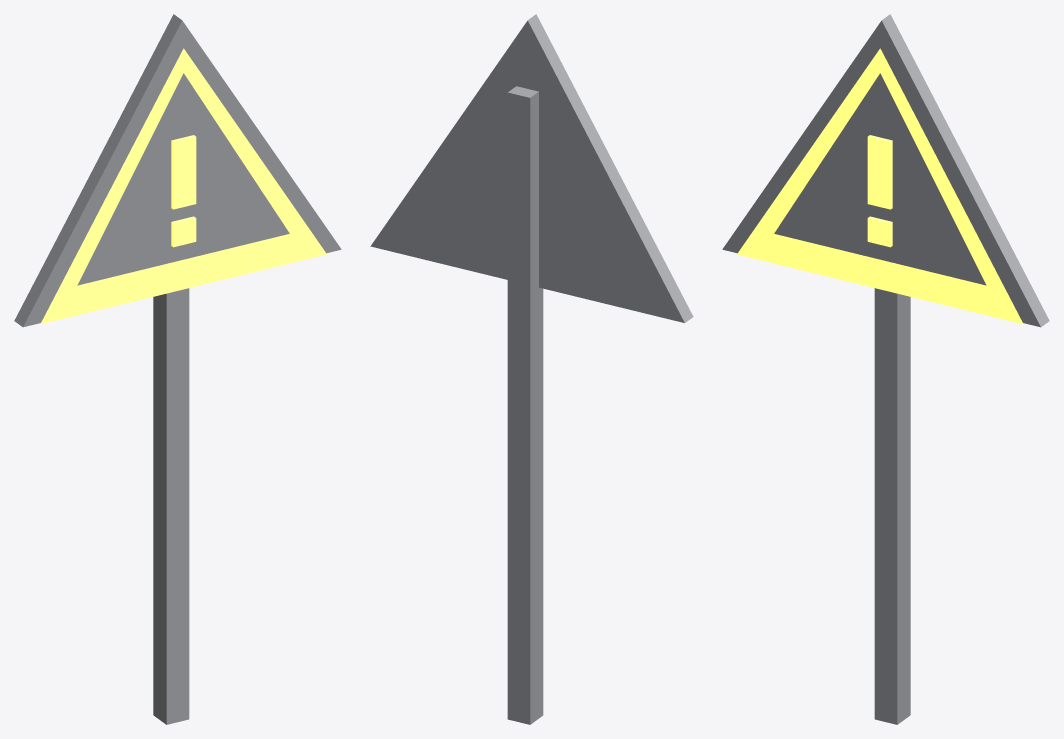
File: Tabela_KayaDusebilir.fbx
3 views of the same model, side by side, from view 1: azimuth 30°, elevation 25°; view 2: azimuth 150°, elevation 25°; view 3: azimuth 330°, elevation 25° (orthographic).
Parts seen in each view (by area): view 1: Tabela_KayaDusebilir_LOD0; view 2: Tabela_KayaDusebilir_LOD0; view 3: Tabela_KayaDusebilir_LOD0.
Boxes of the visible parts, box(x1,y1,x2,y2) form: Tabela_KayaDusebilir_LOD0: box(14, 14, 341, 724); Tabela_KayaDusebilir_LOD0: box(370, 14, 693, 724); Tabela_KayaDusebilir_LOD0: box(722, 14, 1049, 724).
Size of what is drawn, in the model's own units: 1.68 by 3.55 by 0.182.
